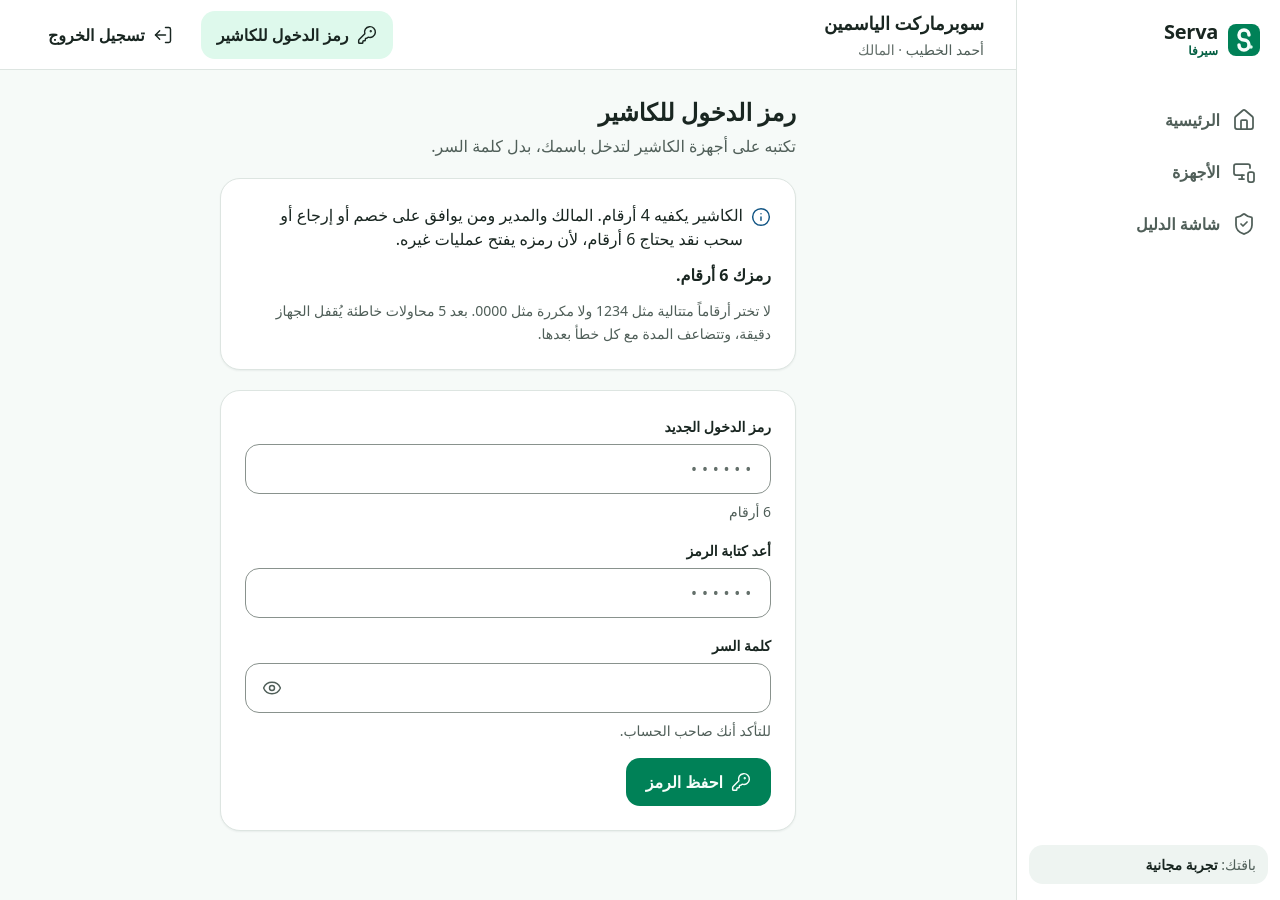
Scenario: «رمز الدخول للكاشير» › saves the code with the password (Arabic digits sent as Latin), and clears the form
Type "٢٥٨٠١٣" into the password field labelled "رمز الدخول الجديد".
click(508, 469); type("٢٥٨٠١٣")  # box x1=246 y1=445 x2=770 y2=493
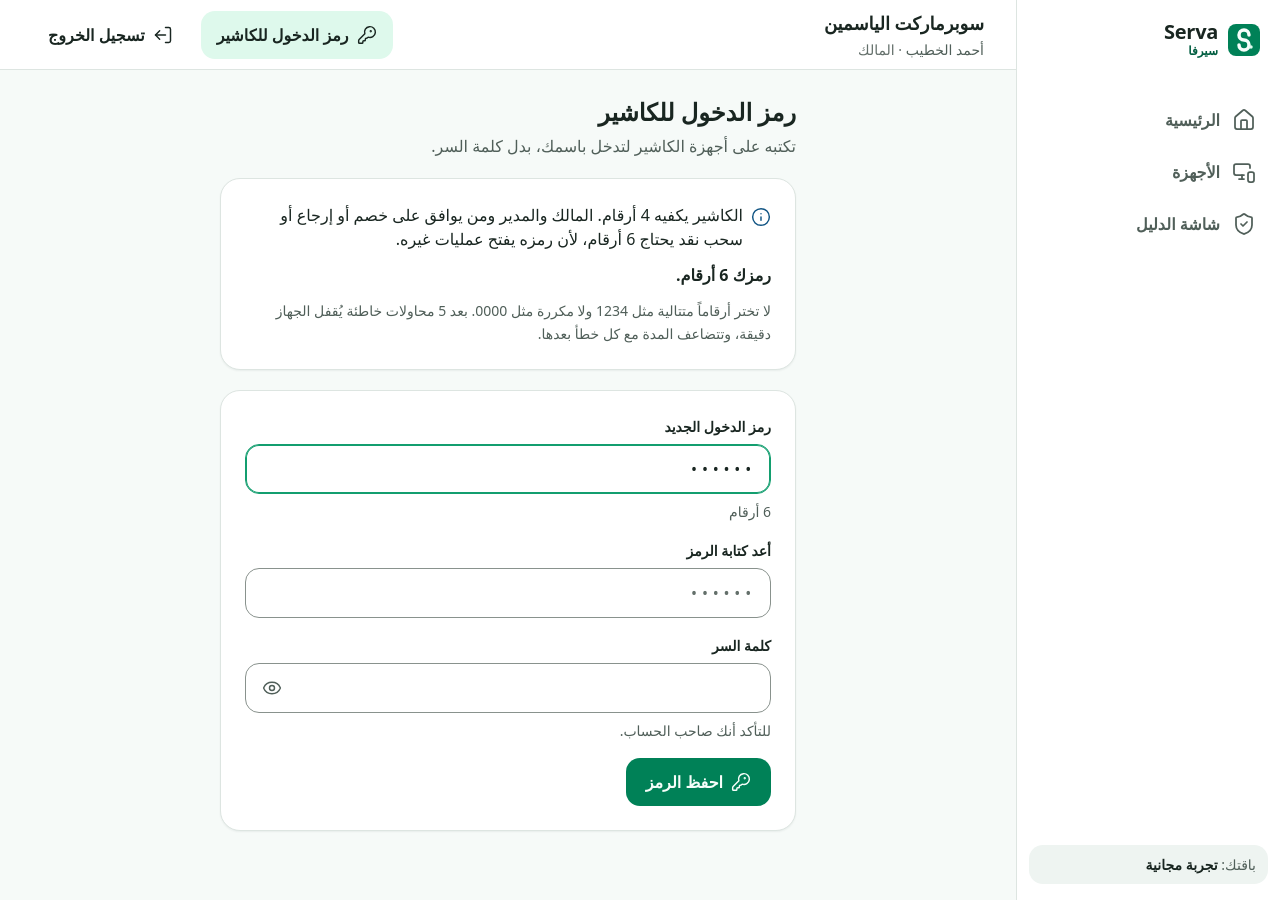
Type "258013" into the password field labelled "أعد كتابة الرمز".
click(508, 593); type("258013")  # box x1=246 y1=569 x2=770 y2=617
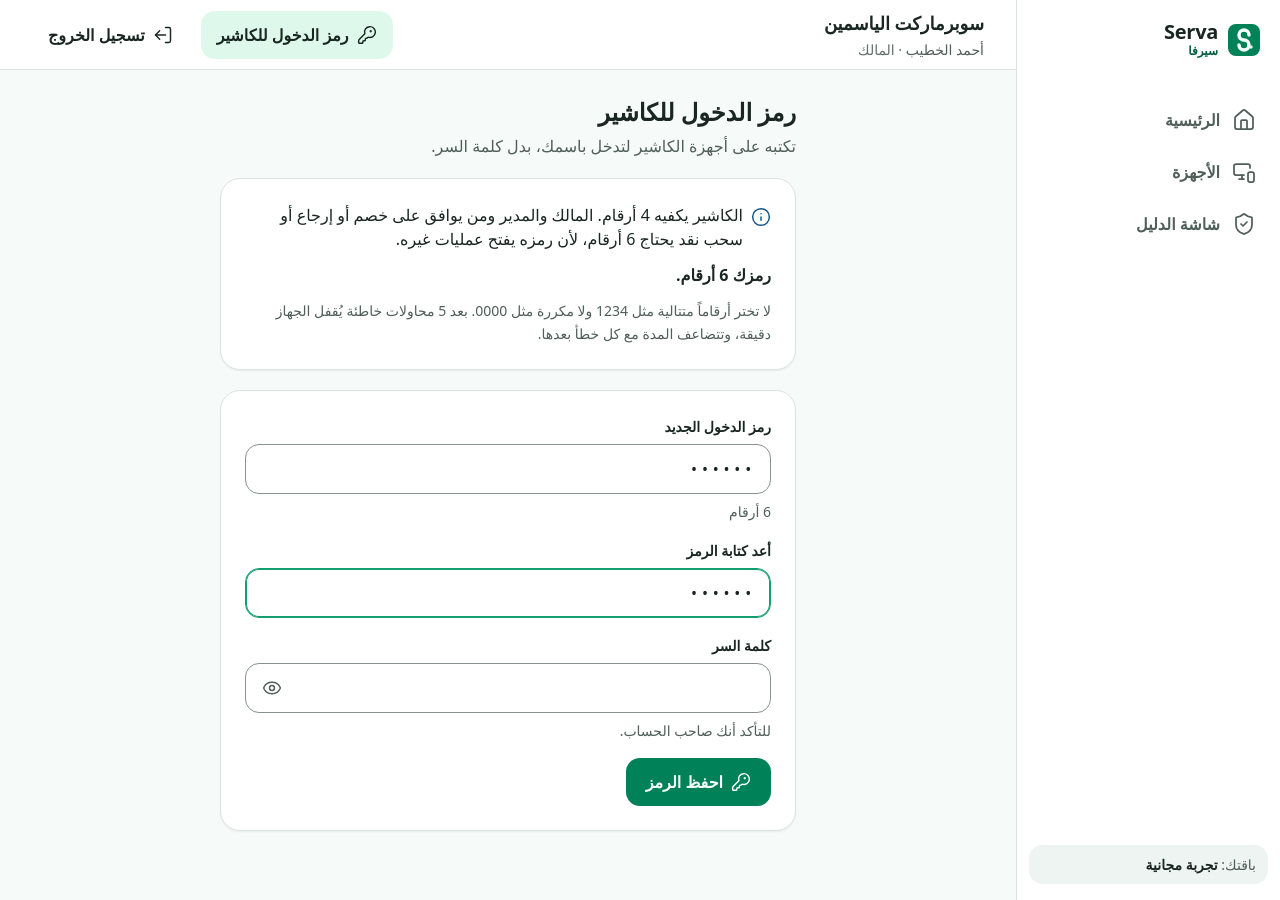
Type "sesame-1" into the password field labelled "كلمة السر".
click(532, 688); type("sesame-1")  # box x1=294 y1=664 x2=770 y2=712
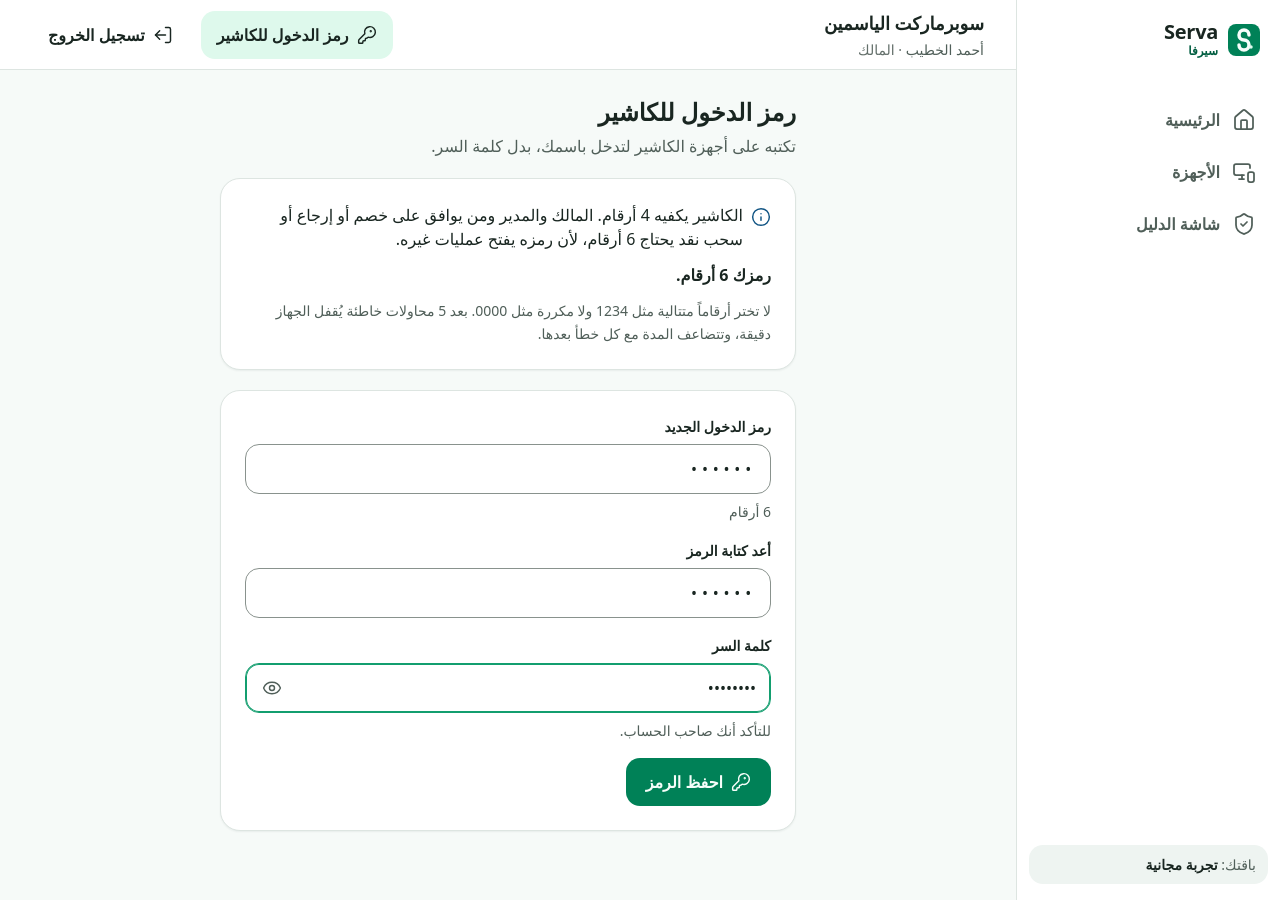
Click the button "احفظ الرمز".
click(698, 782)  # box x1=626 y1=758 x2=771 y2=806
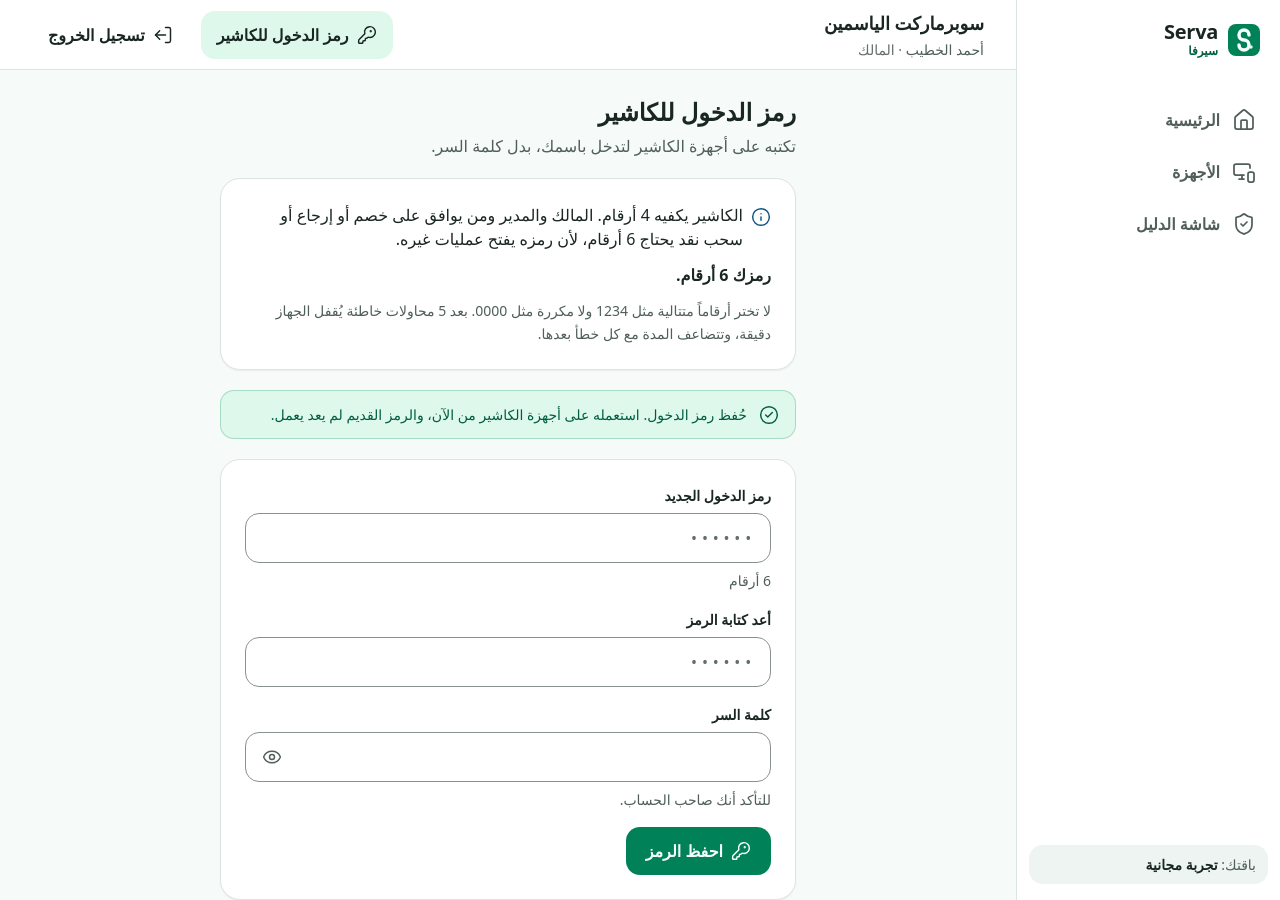
Now the text "حُفظ رمز الدخول. استعمله على أجهزة الكاشير من الآن، والرمز القديم لم يعد يعمل." is shown, box x1=271 y1=403 x2=747 y2=426
Now the password field labelled "رمز الدخول الجديد" is empty, box x1=246 y1=514 x2=770 y2=562
Now the password field labelled "كلمة السر" is empty, box x1=294 y1=733 x2=770 y2=781
